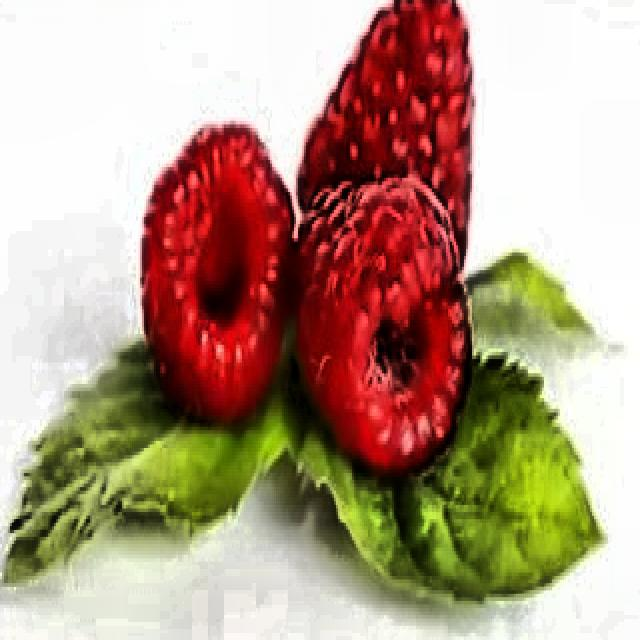Fruit: (80, 74, 620, 629)
